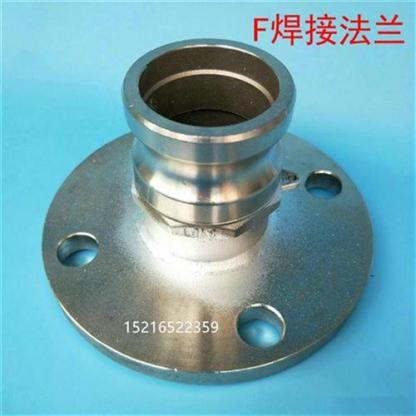FOD: (36, 33, 377, 388)
